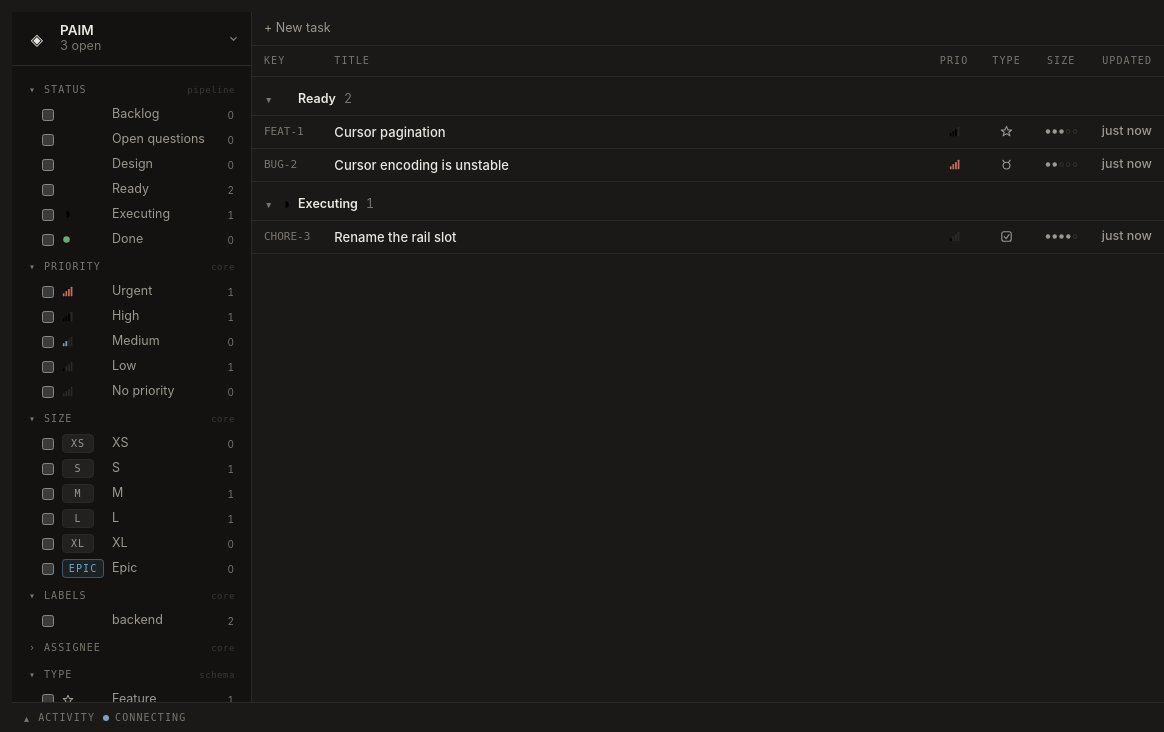
Test: the rail filters the set through the address › says so when the filters leave nothing on screen
Click the checkbox labelled "Backlog 0": coordinates (48, 115) x1=42 y1=109 x2=54 y2=121
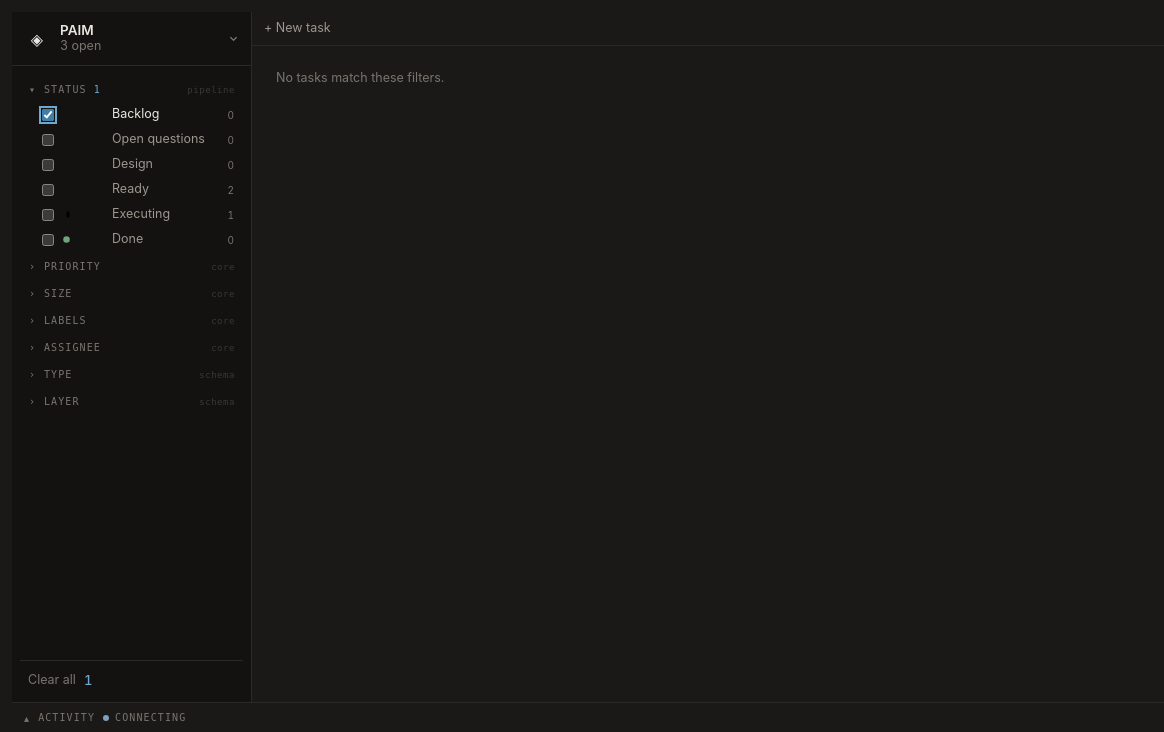
expect the text "No tasks match these filters." is shown: met, box x1=276 y1=70 x2=444 y2=85
